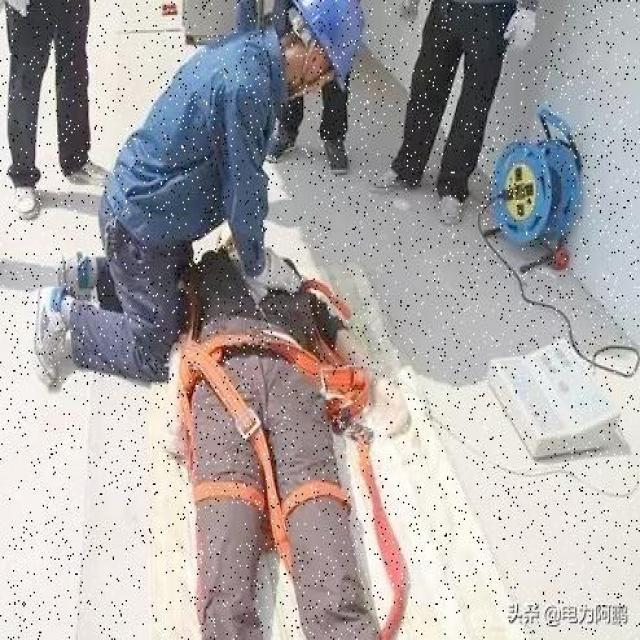fall: (189, 237, 391, 638)
